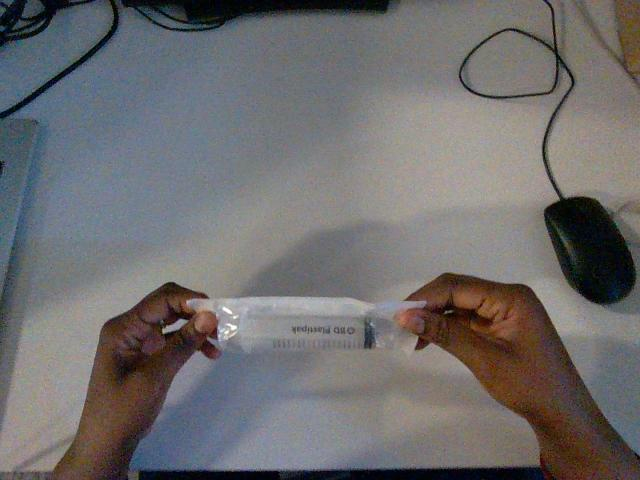syringe: (188, 297, 425, 352)
